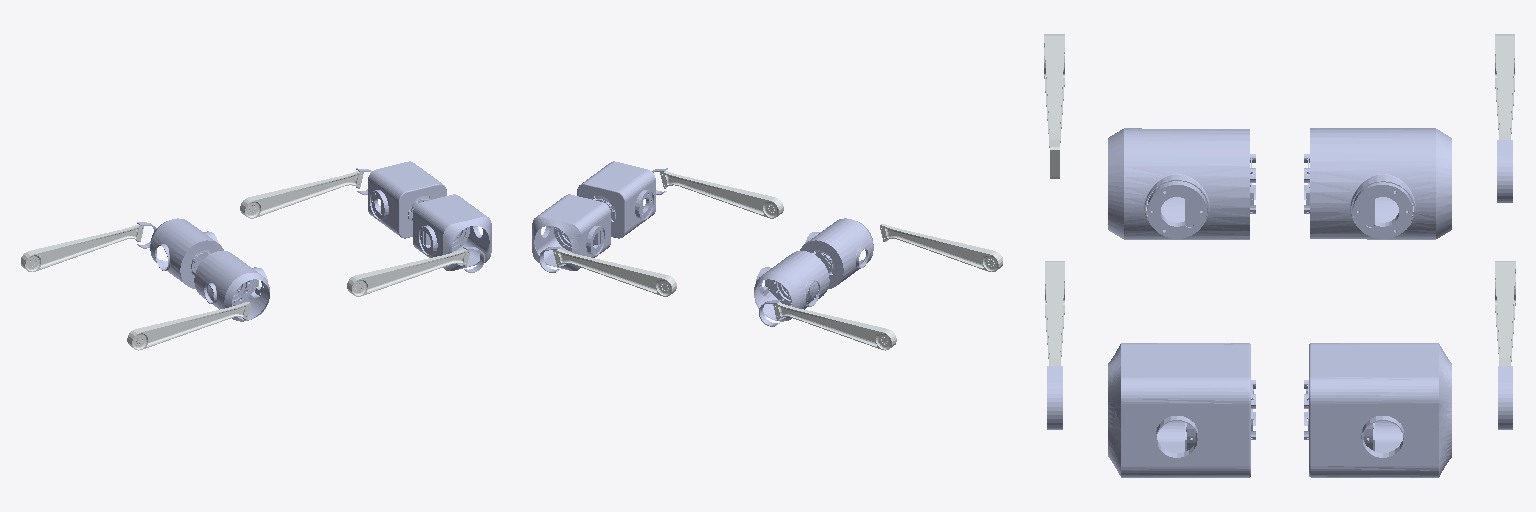
--- What the picture shows (computed from the rendered views, not written in the file) ---
3 views of the same robot in one strip: view 1: azimuth 30°, elevation 25°; view 2: azimuth 150°, elevation 25°; view 3: azimuth 270°, elevation 25° (orthographic).
Model stoch_3_spring with 21 links and 20 joints (12 revolute, 4 prismatic, 4 fixed), rooted at base_link, posed all joints at 0.
Visible links, largest first — view 1: fr_abd_link, fl_abd_link, br_abd_link, bl_abd_link, br_lower_leg_link, fr_lower_leg_link, fl_lower_leg_link, bl_lower_leg_link; view 2: fl_abd_link, fr_abd_link, bl_abd_link, br_abd_link, fl_lower_leg_link, br_lower_leg_link, fr_lower_leg_link, bl_lower_leg_link; view 3: fl_abd_link, fr_abd_link, bl_abd_link, br_abd_link, br_lower_leg_link, fl_lower_leg_link, bl_lower_leg_link, fr_lower_leg_link, fr_spring_link, bl_spring_link, fl_spring_link.
Link boxes in pixels (x1,y1,x2,y2): fr_abd_link: (413, 194, 491, 270); fl_abd_link: (368, 161, 446, 238); br_abd_link: (194, 251, 269, 321); bl_abd_link: (150, 218, 223, 288); br_lower_leg_link: (127, 302, 250, 350); fr_lower_leg_link: (347, 249, 470, 296); fl_lower_leg_link: (240, 171, 363, 218); bl_lower_leg_link: (21, 224, 143, 271); fl_abd_link: (532, 194, 610, 270); fr_abd_link: (577, 161, 655, 238); bl_abd_link: (754, 251, 829, 321); br_abd_link: (800, 218, 873, 288); fl_lower_leg_link: (553, 249, 676, 296); br_lower_leg_link: (880, 224, 1002, 271); fr_lower_leg_link: (660, 171, 783, 218); bl_lower_leg_link: (773, 303, 896, 350); fl_abd_link: (1304, 343, 1451, 477); fr_abd_link: (1108, 343, 1255, 477); bl_abd_link: (1304, 128, 1451, 239); br_abd_link: (1108, 128, 1255, 239); br_lower_leg_link: (1044, 34, 1064, 176); fl_lower_leg_link: (1495, 261, 1515, 365); bl_lower_leg_link: (1495, 34, 1514, 139); fr_lower_leg_link: (1045, 261, 1064, 365); fr_spring_link: (1047, 366, 1062, 429); bl_spring_link: (1497, 140, 1512, 202); fl_spring_link: (1498, 366, 1512, 429).
Bounding box of the posed robot: 0.9039 × 0.4576 × 0.1079 m (x, y, z).
15 mesh visuals loaded from 21 distinct referenced files (15 binary STL); not drawn: 6 (reference not matched to a file when rendering).

URDF robot description (stoch_3_spring):
<?xml version="1.0" encoding="utf-8"?>
<!-- This URDF was automatically created by SolidWorks to URDF Exporter! Originally created by Stephen Brawner ([email redacted]) 
     Commit Version: 1.5.1-0-g916b5db  Build Version: 1.5.7152.31018
     For more information, please see http://wiki.ros.org/sw_urdf_exporter -->
<robot
  name="stoch_3_spring">
  <link
    name="base_link">
    <inertial>
      <origin
        xyz="-0.10238 -1.8464E-05 0.0026538"
        rpy="0 0 0" />
      <mass
        value="7.302" />
      <inertia
        ixx="0.0090197"
        ixy="2.2679E-06"
        ixz="6.4897E-05"
        iyy="0.0094033"
        iyz="-2.1628E-08"
        izz="0.01573" />
    </inertial>
    <visual>
      <origin
        xyz="0 0 0"
        rpy="0 0 0" />
      <geometry>
        <mesh
          filename="package://stoch_3_spring/meshes/base_link.STL" />
      </geometry>
      <material
        name="">
        <color
          rgba="0.75294 0.75294 0.75294 1" />
      </material>
    </visual>
    <collision>
      <origin
        xyz="0 0 0"
        rpy="0 0 0" />
      <geometry>
        <mesh
          filename="package://stoch_3_spring/meshes/base_link.STL" />
      </geometry>
    </collision>
  </link>
  <link
    name="fl_abd_link">
    <inertial>
      <origin
        xyz="0.070269 -0.036118 -2.5986E-07"
        rpy="0 0 0" />
      <mass
        value="0.978" />
      <inertia
        ixx="0.00045941"
        ixy="-6.723E-07"
        ixz="3.3247E-08"
        iyy="0.00059328"
        iyz="5.8809E-09"
        izz="0.00046214" />
    </inertial>
    <visual>
      <origin
        xyz="0 0 0"
        rpy="0 0 0" />
      <geometry>
        <mesh
          filename="package://stoch_3_spring/meshes/fl_abd_link.STL" />
      </geometry>
      <material
        name="">
        <color
          rgba="0.79216 0.81961 0.93333 1" />
      </material>
    </visual>
    <collision>
      <origin
        xyz="0 0 0"
        rpy="0 0 0" />
      <geometry>
        <mesh
          filename="package://stoch_3_spring/meshes/fl_abd_link.STL" />
      </geometry>
    </collision>
  </link>
  <joint
    name="fl_abd_Joint"
    type="revolute">
    <origin
      xyz="0.18598 0.10004 -0.0005"
      rpy="0 0 0.00021134" />
    <parent
      link="base_link" />
    <child
      link="fl_abd_link" />
    <axis
      xyz="1 0 0" />
    <limit
      lower="-1.5708"
      upper="1.5708"
      effort="100"
      velocity="100" />
  </joint>
  <link
    name="fl_upper_leg_link">
    <inertial>
      <origin
        xyz="-0.072527 0.076425 1.3632E-05"
        rpy="0 0 0" />
      <mass
        value="1.547" />
      <inertia
        ixx="0.00031538"
        ixy="-4.0486E-06"
        ixz="-4.8939E-07"
        iyy="0.0031011"
        iyz="6.3718E-11"
        izz="0.0028703" />
    </inertial>
    <visual>
      <origin
        xyz="0 0 0"
        rpy="0 0 0" />
      <geometry>
        <mesh
          filename="package://stoch_3_spring/meshes/fl_upper_leg_link.STL" />
      </geometry>
      <material
        name="">
        <color
          rgba="0.79216 0.81961 0.93333 1" />
      </material>
    </visual>
    <collision>
      <origin
        xyz="0 0 0"
        rpy="0 0 0" />
      <geometry>
        <mesh
          filename="package://stoch_3_spring/meshes/fl_upper_leg_link.STL" />
      </geometry>
    </collision>
  </link>
  <joint
    name="fl_hip_joint"
    type="revolute">
    <origin
      xyz="0.074 -0.01975 0"
      rpy="0 0 0" />
    <parent
      link="fl_abd_link" />
    <child
      link="fl_upper_leg_link" />
    <axis
      xyz="0 -1 0" />
    <limit
      lower="-1.5708"
      upper="6.2832"
      effort="100"
      velocity="100" />
  </joint>
  <link
    name="fl_lower_leg_link">
    <inertial>
      <origin
        xyz="0.086252 5.8285E-07 0.0035444"
        rpy="0 0 0" />
      <mass
        value="0.185" />
      <inertia
        ixx="2.0675E-05"
        ixy="-2.4323E-09"
        ixz="-3.9572E-05"
        iyy="0.0010886"
        iyz="-8.8856E-10"
        izz="0.0010716" />
    </inertial>
    <visual>
      <origin
        xyz="0 0 0"
        rpy="0 0 0" />
      <geometry>
        <mesh
          filename="package://stoch_3_spring/meshes/fl_lower_leg_link.STL" />
      </geometry>
      <material
        name="">
        <color
          rgba="0.89804 0.91765 0.92941 1" />
      </material>
    </visual>
    <collision>
      <origin
        xyz="0 0 0"
        rpy="0 0 0" />
      <geometry>
        <mesh
          filename="package://stoch_3_spring/meshes/fl_lower_leg_link.STL" />
      </geometry>
    </collision>
  </link>
  <joint
    name="fl_knee_joint"
    type="revolute">
    <origin
      xyz="-0.297 0.1385 0"
      rpy="0 0 0" />
    <parent
      link="fl_upper_leg_link" />
    <child
      link="fl_lower_leg_link" />
    <axis
      xyz="0 1 0" />
    <limit
      lower="-6.28"
      upper="6.28"
      effort="100"
      velocity="100" />
  </joint>
  <link
    name="fl_spring_link">
    <inertial>
      <origin
        xyz="0.016432 -1.2088E-10 -0.025935"
        rpy="0 0 0" />
      <mass
        value="0.012" />
      <inertia
        ixx="1.5151E-06"
        ixy="3.6872E-16"
        ixz="7.9114E-08"
        iyy="2.0495E-06"
        iyz="-6.4647E-15"
        izz="6.6246E-07" />
    </inertial>
    <visual>
      <origin
        xyz="0 0 0"
        rpy="0 0 0" />
      <geometry>
        <mesh
          filename="package://stoch_3_spring/meshes/fl_spring_link.STL" />
      </geometry>
      <material
        name="">
        <color
          rgba="0.79216 0.81961 0.93333 1" />
      </material>
    </visual>
    <collision>
      <origin
        xyz="0 0 0"
        rpy="0 0 0" />
      <geometry>
        <mesh
          filename="package://stoch_3_spring/meshes/fl_spring_link.STL" />
      </geometry>
    </collision>
  </link>
  <joint
    name="fl_spring_joint"
    type="prismatic">
    <origin
      xyz="0.26294 0 0.022728"
      rpy="0 0 0" />
    <parent
      link="fl_lower_leg_link" />
    <child
      link="fl_spring_link" />
    <axis
      xyz="0.96487 0 -0.26274" />
    <limit
      lower="-0.005"
      upper="0.012"
      effort="100"
      velocity="100" />
  </joint>
  <link
    name="fl_end_effector_link">
    <inertial>
      <origin
        xyz="0.00030474 -7.6325E-12 -0.0016376"
        rpy="0 0 0" />
      <mass
        value="0.003" />
      <inertia
        ixx="1.2265E-09"
        ixy="1.4499E-19"
        ixz="3.1109E-11"
        iyy="3.2386E-10"
        iyz="4.7001E-18"
        izz="1.3323E-09" />
    </inertial>
    <visual>
      <origin
        xyz="0 0 0"
        rpy="0 0 0" />
      <geometry>
        <mesh
          filename="package://stoch_3_spring/meshes/fl_end_effector_link.STL" />
      </geometry>
      <material
        name="">
        <color
          rgba="0.79216 0.81961 0.93333 1" />
      </material>
    </visual>
    <collision>
      <origin
        xyz="0 0 0"
        rpy="0 0 0" />
      <geometry>
        <mesh
          filename="package://stoch_3_spring/meshes/fl_end_effector_link.STL" />
      </geometry>
    </collision>
  </link>
  <joint
    name="fl_end_effector_joint"
    type="fixed">
    <origin
      xyz="0.25316 0 -0.01044"
      rpy="0 0 0" />
    <parent
      link="fl_lower_leg_link" />
    <child
      link="fl_end_effector_link" />
    <axis
      xyz="0 0 0" />
  </joint>
  <link
    name="fr_abd_link">
    <inertial>
      <origin
        xyz="0.07027 0.036118 -2.957E-07"
        rpy="0 0 0" />
      <mass
        value="0.978" />
      <inertia
        ixx="0.00045941"
        ixy="6.965E-07"
        ixz="-3.3418E-08"
        iyy="0.00059328"
        iyz="-5.8773E-09"
        izz="0.00046214" />
    </inertial>
    <visual>
      <origin
        xyz="0 0 0"
        rpy="0 0 0" />
      <geometry>
        <mesh
          filename="package://stoch_3_spring/meshes/fr_abd_link.STL" />
      </geometry>
      <material
        name="">
        <color
          rgba="0.79216 0.81961 0.93333 1" />
      </material>
    </visual>
    <collision>
      <origin
        xyz="0 0 0"
        rpy="0 0 0" />
      <geometry>
        <mesh
          filename="package://stoch_3_spring/meshes/fr_abd_link.STL" />
      </geometry>
    </collision>
  </link>
  <joint
    name="fr_abd_Joint"
    type="revolute">
    <origin
      xyz="0.18602 -0.099961 -0.0005"
      rpy="0 0 0.00021134" />
    <parent
      link="base_link" />
    <child
      link="fr_abd_link" />
    <axis
      xyz="1 0 0" />
    <limit
      lower="-1.5708"
      upper="1.5708"
      effort="100"
      velocity="100" />
  </joint>
  <link
    name="fr_upper_leg_link">
    <inertial>
      <origin
        xyz="-0.072527 -0.076425 -1.3632E-05"
        rpy="0 0 0" />
      <mass
        value="1.547" />
      <inertia
        ixx="0.00031538"
        ixy="4.0486E-06"
        ixz="4.8939E-07"
        iyy="0.0031011"
        iyz="6.3714E-11"
        izz="0.0028703" />
    </inertial>
    <visual>
      <origin
        xyz="0 0 0"
        rpy="0 0 0" />
      <geometry>
        <mesh
          filename="package://stoch_3_spring/meshes/fr_upper_leg_link.STL" />
      </geometry>
      <material
        name="">
        <color
          rgba="0.79216 0.81961 0.93333 1" />
      </material>
    </visual>
    <collision>
      <origin
        xyz="0 0 0"
        rpy="0 0 0" />
      <geometry>
        <mesh
          filename="package://stoch_3_spring/meshes/fr_upper_leg_link.STL" />
      </geometry>
    </collision>
  </link>
  <joint
    name="fr_hip_joint"
    type="revolute">
    <origin
      xyz="0.074 0.01975 0"
      rpy="0 0 0" />
    <parent
      link="fr_abd_link" />
    <child
      link="fr_upper_leg_link" />
    <axis
      xyz="0 1 0" />
    <limit
      lower="-1.5708"
      upper="6.2832"
      effort="100"
      velocity="100" />
  </joint>
  <link
    name="fr_lower_leg_link">
    <inertial>
      <origin
        xyz="0.086252 5.8285E-07 0.0035444"
        rpy="0 0 0" />
      <mass
        value="0.185" />
      <inertia
        ixx="2.0675E-05"
        ixy="-2.4323E-09"
        ixz="-3.9572E-05"
        iyy="0.0010886"
        iyz="-8.8856E-10"
        izz="0.0010716" />
    </inertial>
    <visual>
      <origin
        xyz="0 0 0"
        rpy="0 0 0" />
      <geometry>
        <mesh
          filename="package://stoch_3_spring/meshes/fr_lower_leg_link.STL" />
      </geometry>
      <material
        name="">
        <color
          rgba="0.89804 0.91765 0.92941 1" />
      </material>
    </visual>
    <collision>
      <origin
        xyz="0 0 0"
        rpy="0 0 0" />
      <geometry>
        <mesh
          filename="package://stoch_3_spring/meshes/fr_lower_leg_link.STL" />
      </geometry>
    </collision>
  </link>
  <joint
    name="fr_knee_joint"
    type="revolute">
    <origin
      xyz="-0.297 -0.1385 0"
      rpy="0 0 0" />
    <parent
      link="fr_upper_leg_link" />
    <child
      link="fr_lower_leg_link" />
    <axis
      xyz="0 -1 0" />
    <limit
      lower="-6.28"
      upper="6.28"
      effort="100"
      velocity="100" />
  </joint>
  <link
    name="fr_spring_link">
    <inertial>
      <origin
        xyz="0.016432 -1.2088E-10 -0.025935"
        rpy="0 0 0" />
      <mass
        value="0.012" />
      <inertia
        ixx="1.5151E-06"
        ixy="3.6872E-16"
        ixz="7.9114E-08"
        iyy="2.0495E-06"
        iyz="-6.4647E-15"
        izz="6.6246E-07" />
    </inertial>
    <visual>
      <origin
        xyz="0 0 0"
        rpy="0 0 0" />
      <geometry>
        <mesh
          filename="package://stoch_3_spring/meshes/fr_spring_link.STL" />
      </geometry>
      <material
        name="">
        <color
          rgba="0.79216 0.81961 0.93333 1" />
      </material>
    </visual>
    <collision>
      <origin
        xyz="0 0 0"
        rpy="0 0 0" />
      <geometry>
        <mesh
          filename="package://stoch_3_spring/meshes/fr_spring_link.STL" />
      </geometry>
    </collision>
  </link>
  <joint
    name="fr_spring_joint"
    type="prismatic">
    <origin
      xyz="0.26294 0 0.022728"
      rpy="0 0 0" />
    <parent
      link="fr_lower_leg_link" />
    <child
      link="fr_spring_link" />
    <axis
      xyz="0.96487 0 -0.26274" />
    <limit
      lower="-0.005"
      upper="0.012"
      effort="100"
      velocity="100" />
  </joint>
  <link
    name="fr_end_effector_link">
    <inertial>
      <origin
        xyz="0.00030474 -7.6323E-12 -0.0016376"
        rpy="0 0 0" />
      <mass
        value="0.003" />
      <inertia
        ixx="1.2265E-09"
        ixy="1.4499E-19"
        ixz="3.1109E-11"
        iyy="3.2386E-10"
        iyz="4.7001E-18"
        izz="1.3323E-09" />
    </inertial>
    <visual>
      <origin
        xyz="0 0 0"
        rpy="0 0 0" />
      <geometry>
        <mesh
          filename="package://stoch_3_spring/meshes/fr_end_effector_link.STL" />
      </geometry>
      <material
        name="">
        <color
          rgba="0.79216 0.81961 0.93333 1" />
      </material>
    </visual>
    <collision>
      <origin
        xyz="0 0 0"
        rpy="0 0 0" />
      <geometry>
        <mesh
          filename="package://stoch_3_spring/meshes/fr_end_effector_link.STL" />
      </geometry>
    </collision>
  </link>
  <joint
    name="fr_end_effector_joint"
    type="fixed">
    <origin
      xyz="0.25316 0 -0.01044"
      rpy="0 0 0" />
    <parent
      link="fr_lower_leg_link" />
    <child
      link="fr_end_effector_link" />
    <axis
      xyz="0 0 0" />
  </joint>
  <link
    name="bl_abd_link">
    <inertial>
      <origin
        xyz="-0.069942 -0.037337 -1.868E-06"
        rpy="0 0 0" />
      <mass
        value="0.978" />
      <inertia
        ixx="0.00039025"
        ixy="3.5854E-08"
        ixz="1.1626E-07"
        iyy="0.00050148"
        iyz="5.3875E-09"
        izz="0.00037524" />
    </inertial>
    <visual>
      <origin
        xyz="0 0 0"
        rpy="0 0 0" />
      <geometry>
        <mesh
          filename="package://stoch_3_spring/meshes/bl_abd_link.STL" />
      </geometry>
      <material
        name="">
        <color
          rgba="0.79216 0.81961 0.93333 1" />
      </material>
    </visual>
    <collision>
      <origin
        xyz="0 0 0"
        rpy="0 0 0" />
      <geometry>
        <mesh
          filename="package://stoch_3_spring/meshes/bl_abd_link.STL" />
      </geometry>
    </collision>
  </link>
  <joint
    name="bl_abd_Joint"
    type="revolute">
    <origin
      xyz="-0.18602 0.099961 -0.0005"
      rpy="0 0 0" />
    <parent
      link="base_link" />
    <child
      link="bl_abd_link" />
    <axis
      xyz="-1 -0.00021136 0" />
    <limit
      lower="-1.5708"
      upper="1.5708"
      effort="100"
      velocity="100" />
  </joint>
  <link
    name="bl_upper_leg_link">
    <inertial>
      <origin
        xyz="-0.072543 0.076409 1.3632E-05"
        rpy="0 0 0" />
      <mass
        value="1.547" />
      <inertia
        ixx="0.00031539"
        ixy="-4.6374E-06"
        ixz="-4.8939E-07"
        iyy="0.0031011"
        iyz="-3.9719E-11"
        izz="0.0028703" />
    </inertial>
    <visual>
      <origin
        xyz="0 0 0"
        rpy="0 0 0" />
      <geometry>
        <mesh
          filename="package://stoch_3_spring/meshes/bl_upper_leg_link.STL" />
      </geometry>
      <material
        name="">
        <color
          rgba="0.79216 0.81961 0.93333 1" />
      </material>
    </visual>
    <collision>
      <origin
        xyz="0 0 0"
        rpy="0 0 0" />
      <geometry>
        <mesh
          filename="package://stoch_3_spring/meshes/bl_upper_leg_link.STL" />
      </geometry>
    </collision>
  </link>
  <joint
    name="bl_hip_joint"
    type="revolute">
    <origin
      xyz="-0.073996 -0.019766 0"
      rpy="0 0 0" />
    <parent
      link="bl_abd_link" />
    <child
      link="bl_upper_leg_link" />
    <axis
      xyz="0.00021136 -1 0" />
    <limit
      lower="-1.5708"
      upper="6.2832"
      effort="100"
      velocity="100" />
  </joint>
  <link
    name="bl_lower_leg_link">
    <inertial>
      <origin
        xyz="0.086252 1.8813E-05 0.0035444"
        rpy="0 0 0" />
      <mass
        value="0.185" />
      <inertia
        ixx="2.0675E-05"
        ixy="-2.2814E-07"
        ixz="-3.9572E-05"
        iyy="0.0010886"
        iyz="-9.2525E-09"
        izz="0.0010716" />
    </inertial>
    <visual>
      <origin
        xyz="0 0 0"
        rpy="0 0 0" />
      <geometry>
        <mesh
          filename="package://stoch_3_spring/meshes/bl_lower_leg_link.STL" />
      </geometry>
      <material
        name="">
        <color
          rgba="0.89804 0.91765 0.92941 1" />
      </material>
    </visual>
    <collision>
      <origin
        xyz="0 0 0"
        rpy="0 0 0" />
      <geometry>
        <mesh
          filename="package://stoch_3_spring/meshes/bl_lower_leg_link.STL" />
      </geometry>
    </collision>
  </link>
  <joint
    name="bl_knee_joint"
    type="revolute">
    <origin
      xyz="-0.29703 0.13844 0"
      rpy="0 0 0" />
    <parent
      link="bl_upper_leg_link" />
    <child
      link="bl_lower_leg_link" />
    <axis
      xyz="-0.00021136 1 0" />
    <limit
      lower="-6.28"
      upper="6.28"
      effort="100"
      velocity="100" />
  </joint>
  <link
    name="bl_spring_link">
    <inertial>
      <origin
        xyz="0.016432 3.4731E-06 -0.025935"
        rpy="0 0 0" />
      <mass
        value="0.012" />
      <inertia
        ixx="1.5151E-06"
        ixy="-1.1295E-10"
        ixz="7.9114E-08"
        iyy="2.0495E-06"
        iyz="1.6715E-11"
        izz="6.6246E-07" />
    </inertial>
    <visual>
      <origin
        xyz="0 0 0"
        rpy="0 0 0" />
      <geometry>
        <mesh
          filename="package://stoch_3_spring/meshes/bl_spring_link.STL" />
      </geometry>
      <material
        name="">
        <color
          rgba="0.79216 0.81961 0.93333 1" />
      </material>
    </visual>
    <collision>
      <origin
        xyz="0 0 0"
        rpy="0 0 0" />
      <geometry>
        <mesh
          filename="package://stoch_3_spring/meshes/bl_spring_link.STL" />
      </geometry>
    </collision>
  </link>
  <joint
    name="bl_spring_joint"
    type="prismatic">
    <origin
      xyz="0.26294 5.5576E-05 0.022728"
      rpy="0 0 0" />
    <parent
      link="bl_lower_leg_link" />
    <child
      link="bl_spring_link" />
    <axis
      xyz="0.96487 0.00020393 -0.26274" />
    <limit
      lower="-0.005"
      upper="0.012"
      effort="100"
      velocity="100" />
  </joint>
  <link
    name="bl_end_effector_link">
    <inertial>
      <origin
        xyz="0.00030474 -7.6323E-12 -0.0016376"
        rpy="0 0 0" />
      <mass
        value="0.003" />
      <inertia
        ixx="1.2265E-09"
        ixy="1.4499E-19"
        ixz="3.1109E-11"
        iyy="3.2386E-10"
        iyz="4.7001E-18"
        izz="1.3323E-09" />
    </inertial>
    <visual>
      <origin
        xyz="0 0 0"
        rpy="0 0 0" />
      <geometry>
        <mesh
          filename="package://stoch_3_spring/meshes/bl_end_effector_link.STL" />
      </geometry>
      <material
        name="">
        <color
          rgba="0.79216 0.81961 0.93333 1" />
      </material>
    </visual>
    <collision>
      <origin
        xyz="0 0 0"
        rpy="0 0 0" />
      <geometry>
        <mesh
          filename="package://stoch_3_spring/meshes/bl_end_effector_link.STL" />
      </geometry>
    </collision>
  </link>
  <joint
    name="bl_end_effector_joint"
    type="fixed">
    <origin
      xyz="0.25316 5.3508E-05 -0.01044"
      rpy="0 0 0.00021136" />
    <parent
      link="bl_lower_leg_link" />
    <child
      link="bl_end_effector_link" />
    <axis
      xyz="0 0 0" />
  </joint>
  <link
    name="br_abd_link">
    <inertial>
      <origin
        xyz="-0.070181 0.037273 -1.5886E-07"
        rpy="0 0 0" />
      <mass
        value="0.978" />
      <inertia
        ixx="0.00038996"
        ixy="-9.3213E-07"
        ixz="-8.0337E-08"
        iyy="0.00050185"
        iyz="-1.1127E-09"
        izz="0.00037578" />
    </inertial>
    <visual>
      <origin
        xyz="0 0 0"
        rpy="0 0 0" />
      <geometry>
        <mesh
          filename="package://stoch_3_spring/meshes/br_abd_link.STL" />
      </geometry>
      <material
        name="">
        <color
          rgba="0.79216 0.81961 0.93333 1" />
      </material>
    </visual>
    <collision>
      <origin
        xyz="0 0 0"
        rpy="0 0 0" />
      <geometry>
        <mesh
          filename="package://stoch_3_spring/meshes/br_abd_link.STL" />
      </geometry>
    </collision>
  </link>
  <joint
    name="br_abd_Joint"
    type="revolute">
    <origin
      xyz="-0.18598 -0.10004 -0.0005"
      rpy="0 0 0" />
    <parent
      link="base_link" />
    <child
      link="br_abd_link" />
    <axis
      xyz="-1 -0.00021136 0" />
    <limit
      lower="-1.5708"
      upper="1.5708"
      effort="100"
      velocity="100" />
  </joint>
  <link
    name="br_upper_leg_link">
    <inertial>
      <origin
        xyz="-0.072511 -0.07644 -1.3632E-05"
        rpy="0 0 0" />
      <mass
        value="1.547" />
      <inertia
        ixx="0.00031538"
        ixy="3.4598E-06"
        ixz="4.8939E-07"
        iyy="0.0031011"
        iyz="1.6716E-10"
        izz="0.0028703" />
    </inertial>
    <visual>
      <origin
        xyz="0 0 0"
        rpy="0 0 0" />
      <geometry>
        <mesh
          filename="package://stoch_3_spring/meshes/br_upper_leg_link.STL" />
      </geometry>
      <material
        name="">
        <color
          rgba="0.79216 0.81961 0.93333 1" />
      </material>
    </visual>
    <collision>
      <origin
        xyz="0 0 0"
        rpy="0 0 0" />
      <geometry>
        <mesh
          filename="package://stoch_3_spring/meshes/br_upper_leg_link.STL" />
      </geometry>
    </collision>
  </link>
  <joint
    name="br_hip_joint"
    type="revolute">
    <origin
      xyz="-0.074004 0.019734 0"
      rpy="0 0 0" />
    <parent
      link="br_abd_link" />
    <child
      link="br_upper_leg_link" />
    <axis
      xyz="-0.00021136 1 0" />
    <limit
      lower="-1.5708"
      upper="6.2832"
      effort="100"
      velocity="100" />
  </joint>
  <link
    name="br_lower_leg_link">
    <inertial>
      <origin
        xyz="0.086252 1.8813E-05 0.0035444"
        rpy="0 0 0" />
      <mass
        value="0.185" />
      <inertia
        ixx="2.0675E-05"
        ixy="-2.2814E-07"
        ixz="-3.9572E-05"
        iyy="0.0010886"
        iyz="-9.2525E-09"
        izz="0.0010716" />
    </inertial>
    <visual>
      <origin
        xyz="0 0 0"
        rpy="0 0 0" />
      <geometry>
        <mesh
          filename="package://stoch_3_spring/meshes/br_lower_leg_link.STL" />
      </geometry>
      <material
        name="">
        <color
          rgba="0.89804 0.91765 0.92941 1" />
      </material>
    </visual>
    <collision>
      <origin
        xyz="0 0 0"
        rpy="0 0 0" />
      <geometry>
        <mesh
          filename="package://stoch_3_spring/meshes/br_lower_leg_link.STL" />
      </geometry>
    </collision>
  </link>
  <joint
    name="br_knee_joint"
    type="revolute">
    <origin
      xyz="-0.29697 -0.13856 0"
      rpy="0 0 0" />
    <parent
      link="br_upper_leg_link" />
    <child
      link="br_lower_leg_link" />
    <axis
      xyz="0.00021136 -1 0" />
    <limit
      lower="-6.28"
      upper="6.28"
      effort="100"
      velocity="100" />
  </joint>
  <link
    name="br_spring_link">
    <inertial>
      <origin
        xyz="0.016432 -1.2088E-10 -0.025935"
        rpy="0 0 0" />
      <mass
        value="0.012" />
      <inertia
        ixx="1.5151E-06"
        ixy="3.6872E-16"
        ixz="7.9114E-08"
        iyy="2.0495E-06"
        iyz="-6.4647E-15"
        izz="6.6246E-07" />
    </inertial>
    <visual>
      <origin
        xyz="0 0 0"
        rpy="0 0 0" />
      <geometry>
        <mesh
          filename="package://stoch_3_spring/meshes/br_spring_link.STL" />
      </geometry>
      <material
        name="">
        <color
          rgba="0.79216 0.81961 0.93333 1" />
      </material>
    </visual>
    <collision>
      <origin
        xyz="0 0 0"
        rpy="0 0 0" />
      <geometry>
        <mesh
          filename="package://stoch_3_spring/meshes/br_spring_link.STL" />
      </geometry>
    </collision>
  </link>
  <joint
    name="br_spring_joint"
    type="prismatic">
    <origin
      xyz="0.26294 5.5576E-05 0.022728"
      rpy="0 0 0.00021136" />
    <parent
      link="br_lower_leg_link" />
    <child
      link="br_spring_link" />
    <axis
      xyz="0.96487 0 -0.26274" />
    <limit
      lower="-0.005"
      upper="0.012"
      effort="100"
      velocity="100" />
  </joint>
  <link
    name="br_end_effector_link">
    <inertial>
      <origin
        xyz="0.00030474 -7.6324E-12 -0.0016376"
        rpy="0 0 0" />
      <mass
        value="0.003" />
      <inertia
        ixx="1.2265E-09"
        ixy="1.4499E-19"
        ixz="3.1109E-11"
        iyy="3.2386E-10"
        iyz="4.7001E-18"
        izz="1.3323E-09" />
    </inertial>
    <visual>
      <origin
        xyz="0 0 0"
        rpy="0 0 0" />
      <geometry>
        <mesh
          filename="package://stoch_3_spring/meshes/br_end_effector_link.STL" />
      </geometry>
      <material
        name="">
        <color
          rgba="0.79216 0.81961 0.93333 1" />
      </material>
    </visual>
    <collision>
      <origin
        xyz="0 0 0"
        rpy="0 0 0" />
      <geometry>
        <mesh
          filename="package://stoch_3_spring/meshes/br_end_effector_link.STL" />
      </geometry>
    </collision>
  </link>
  <joint
    name="br_end_effector_joint"
    type="fixed">
    <origin
      xyz="0.25316 5.3508E-05 -0.01044"
      rpy="0 0 0.00021136" />
    <parent
      link="br_lower_leg_link" />
    <child
      link="br_end_effector_link" />
    <axis
      xyz="0 0 0" />
  </joint>
</robot>
